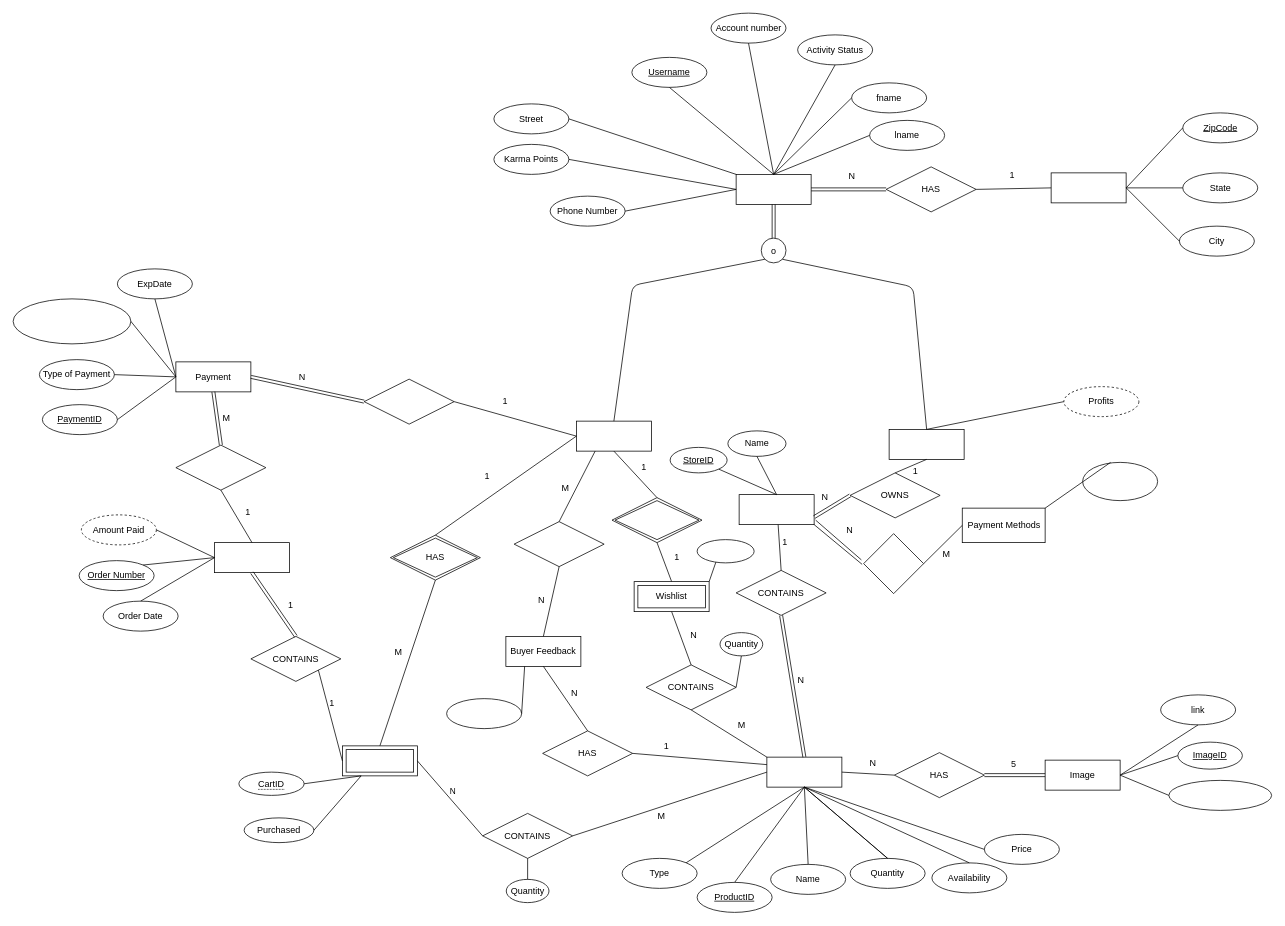
Some shapes in this 1285 by 926 pixel diagram are drawn without their labels. Each missing label, with the centre of its shape:
"ACCEPTS" goes at point 893,563.
"Account" goes at point 773,189.
"Buyer" goes at point 613,435.
"Creation date" goes at point 1220,795.
"Feedback" goes at point 484,713.
"MAKES" goes at point 408,401.
"Method_name" goes at point 1120,481.
"Order" goes at point 252,557.
"Pay" goes at point 220,467.
"Payment_Account_Number" goes at point 71,321.
"Product" goes at point 804,771.
"Seller" goes at point 926,444.
"Shopping Cart" goes at point 379,760.
"Virtual Storefront" goes at point 776,509.
"WISHES" goes at point 656,520.
"WishID" goes at point 725,551.
"WRITES" goes at point 558,544.
"Zip" goes at point 1088,187.
